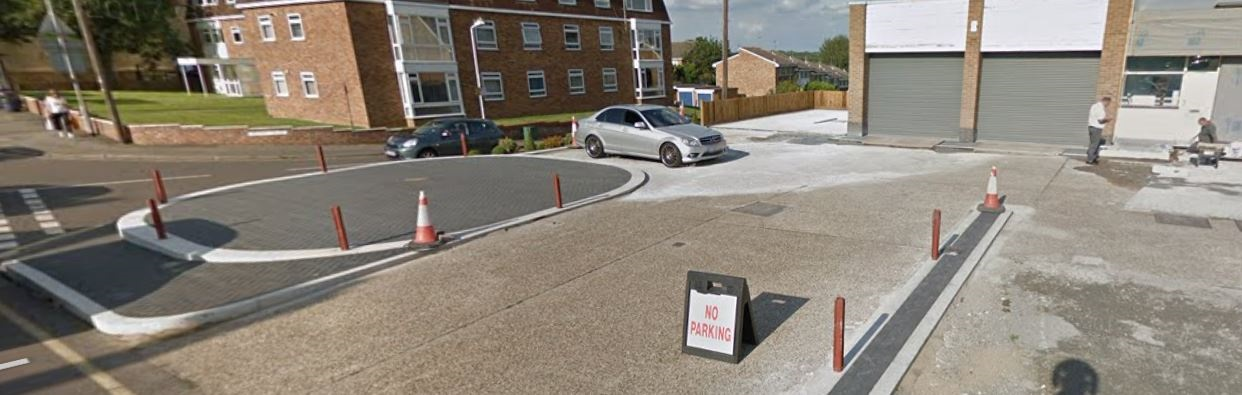cone: (401, 190, 447, 253), (977, 167, 1008, 216)
